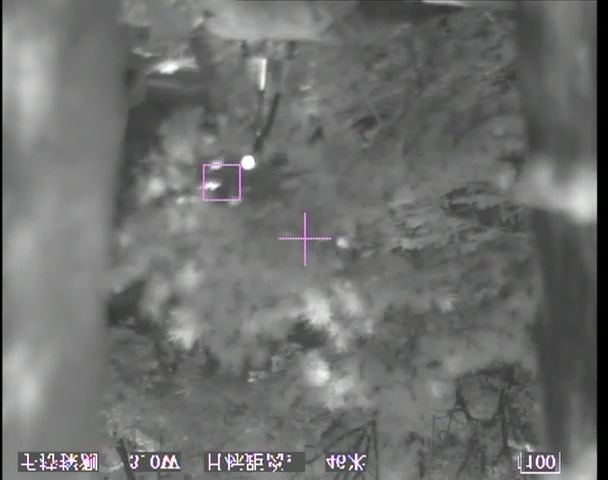my: (241, 154, 256, 170)
